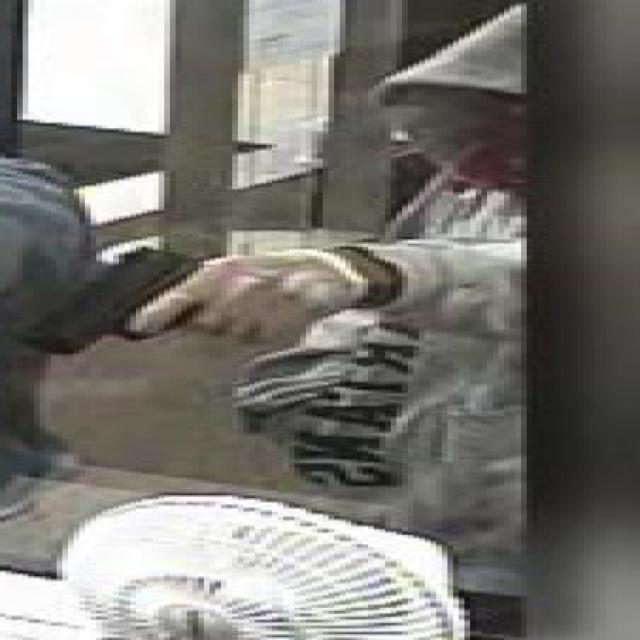Gun: (34, 245, 317, 354)
